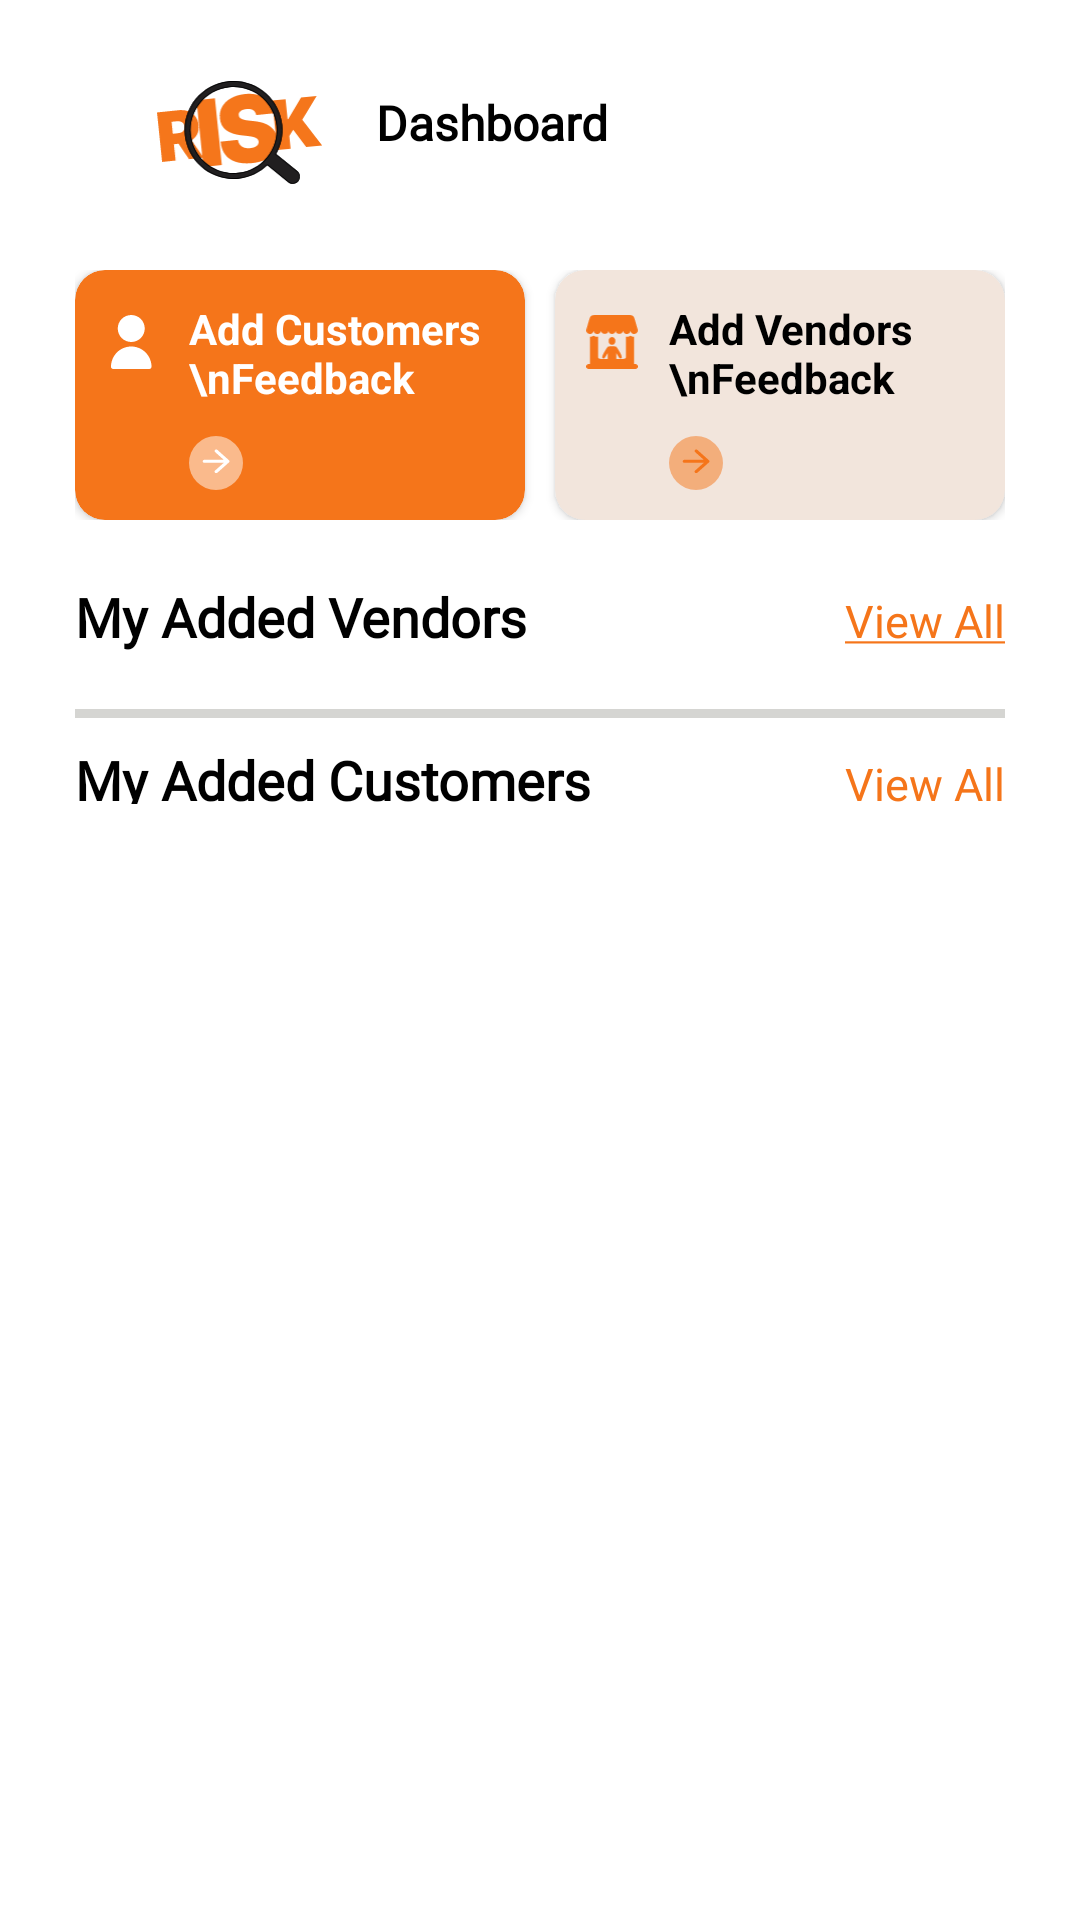

Icons on this 1080*1920 Android screen, each with the point to tap as (x,y):
account: (131,342)
vendro: (612,342)
